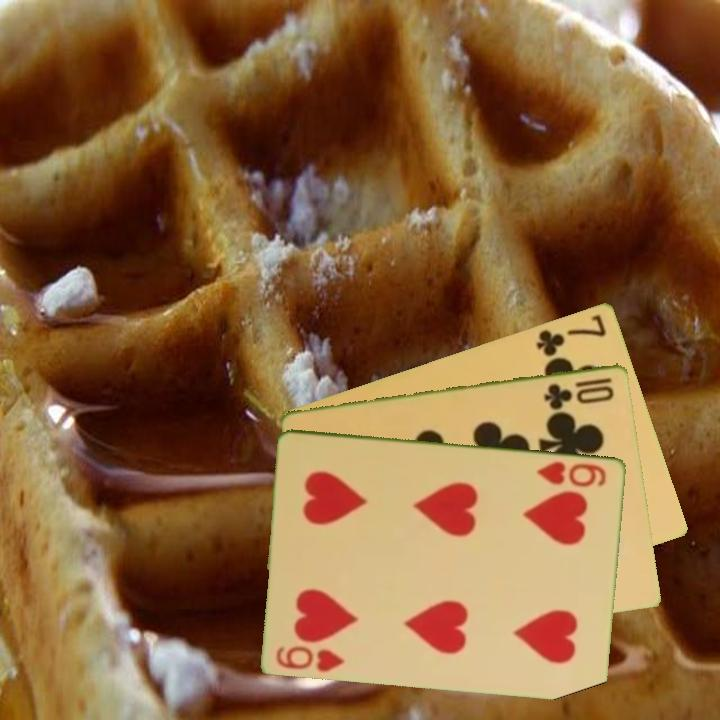10c: (540, 373, 618, 410)
6h: (273, 642, 348, 675), (534, 457, 610, 489)
7c: (533, 310, 610, 359)
